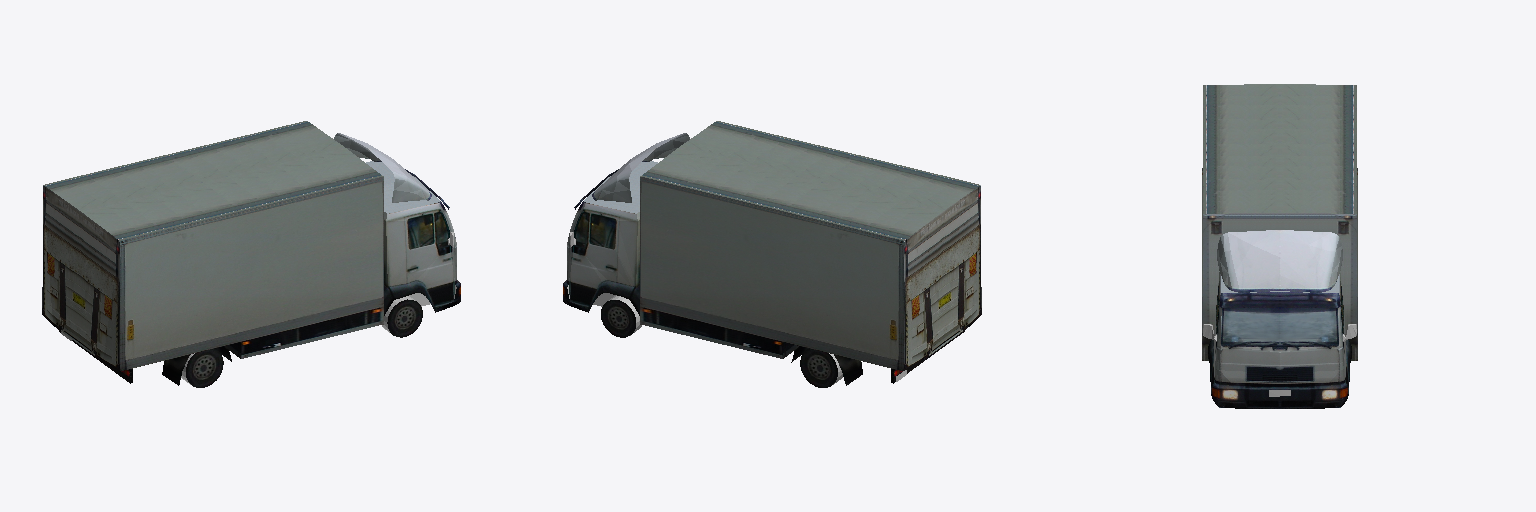
3 views of the same model, side by side, from view 1: azimuth 30°, elevation 25°; view 2: azimuth 150°, elevation 25°; view 3: azimuth 270°, elevation 25° (orthographic).
Parts seen in each view (by area): view 1: 17lorry; view 2: 17lorry; view 3: 17lorry.
Boxes of the visible parts, x1=… form: 17lorry: x1=42, y1=121, x2=460, y2=387; 17lorry: x1=563, y1=121, x2=981, y2=387; 17lorry: x1=1202, y1=84, x2=1357, y2=408.
Bounding box in the file's own units: 7449 × 3469 × 2828.
Materials: 32 (27 with a texture image).